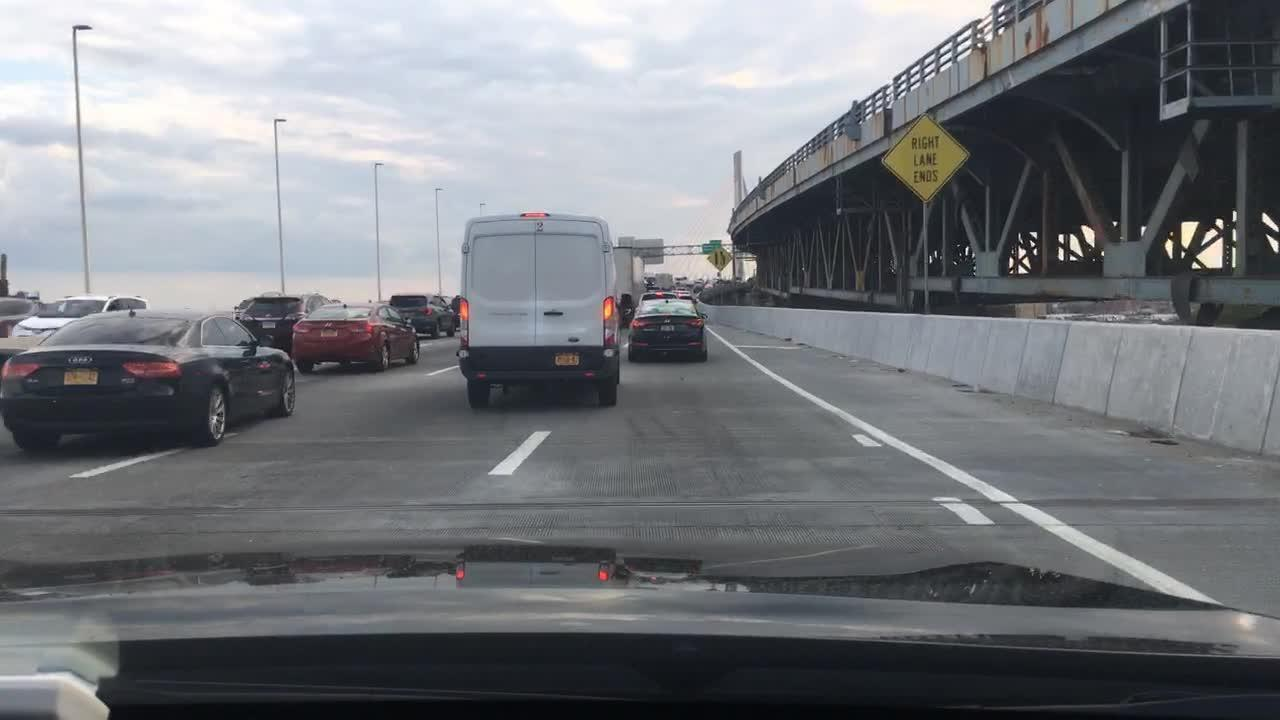Audi: (54, 350, 98, 369)
